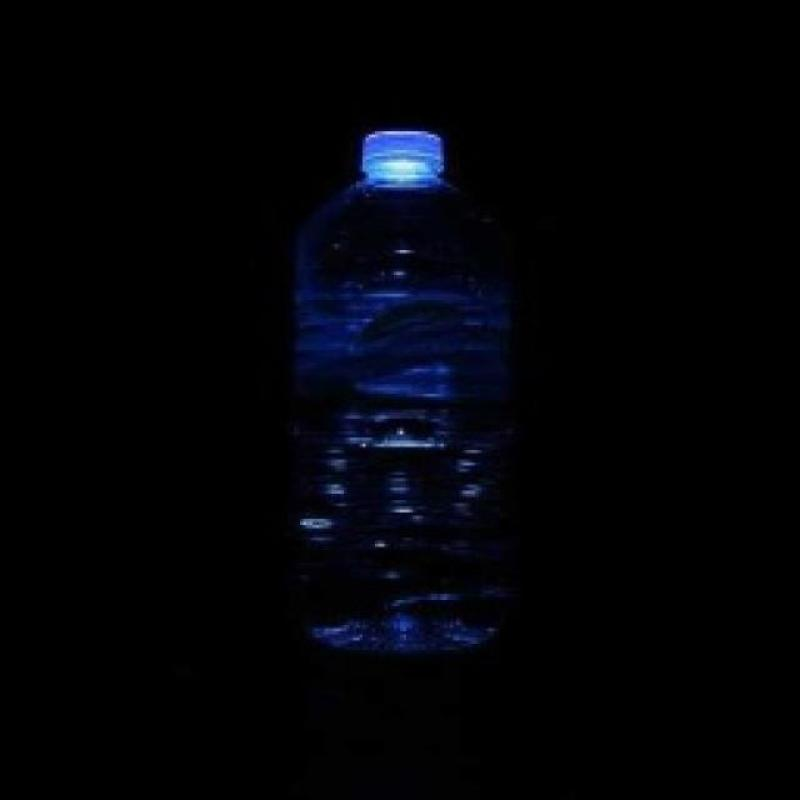botella: (282, 128, 512, 662)
